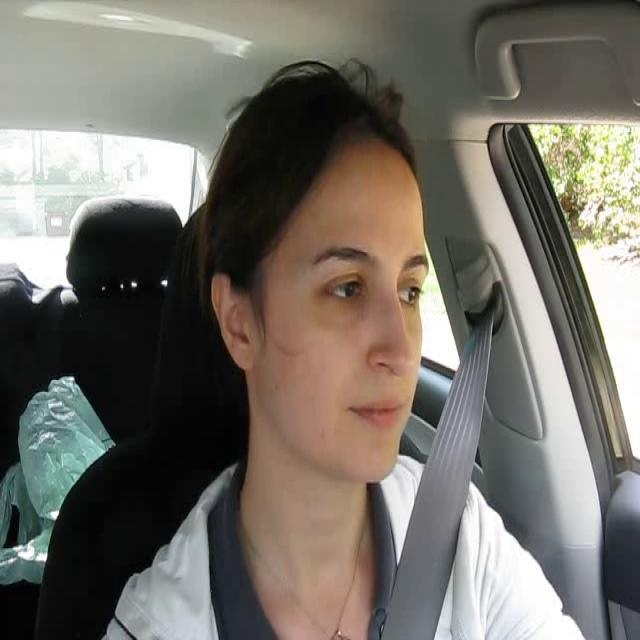close: (345, 390, 412, 435)
